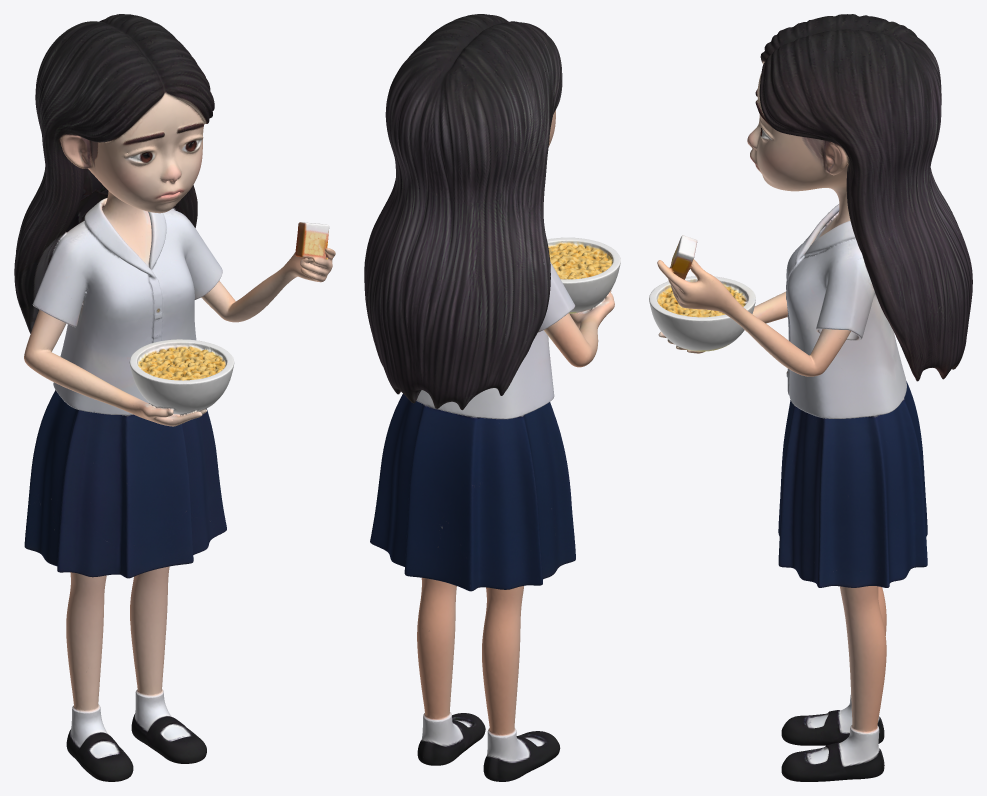
Rendered from Kasus 3.glb.
The picture shows the model from 3 angles, left to right: view 1: azimuth 30°, elevation 25°; view 2: azimuth 150°, elevation 25°; view 3: azimuth 270°, elevation 25°; orthographic projection.
Bounding box in the file's own units: 0.6401 × 1.9 × 0.7625.
1 material, 1 textured.
